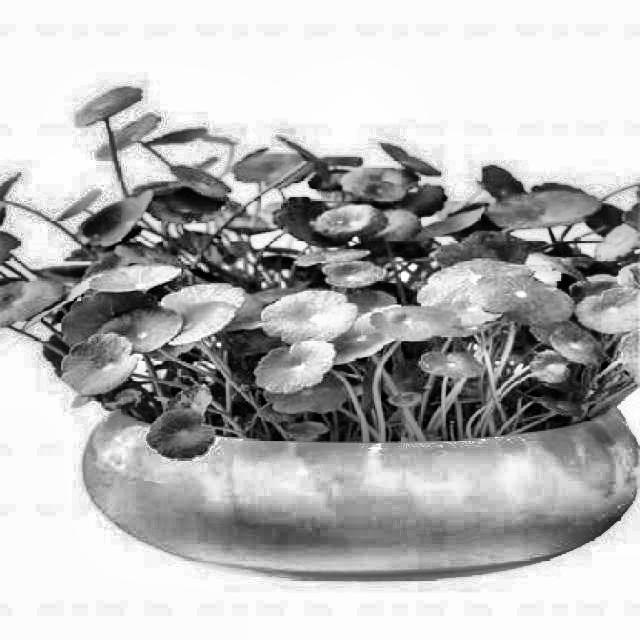plants: (82, 90, 636, 570)
